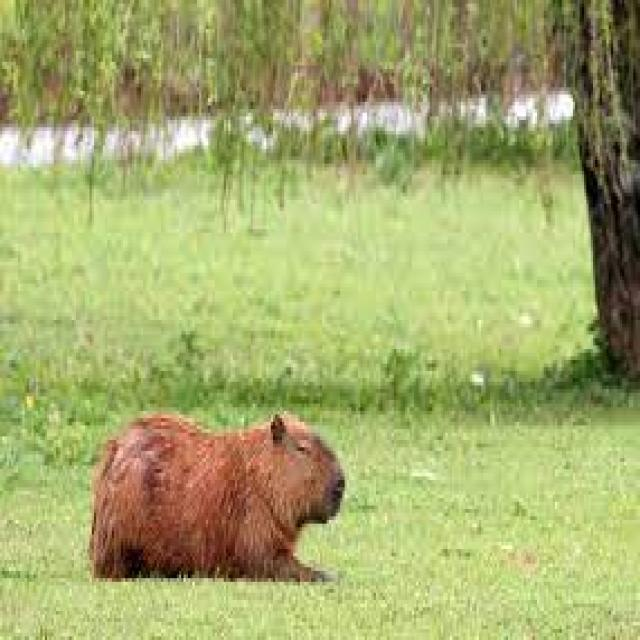capy: (89, 410, 344, 583)
